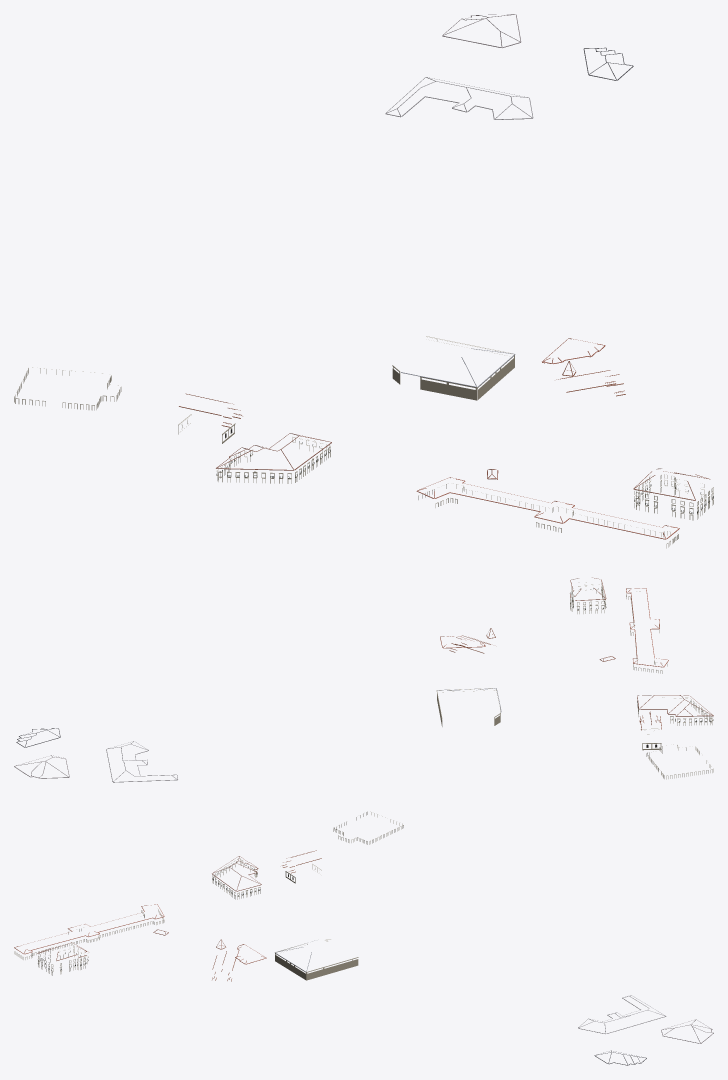
3 views of the same model, one above another, from view 1: azimuth 30°, elevation 25°; view 2: azimuth 150°, elevation 25°; view 3: azimuth 270°, elevation 25° (orthographic). The views are drawn at different scales.
Visible parts, largest first — view 1: detail; view 2: detail; view 3: detail.
Part boxes in pixels (<box>): detail: <box>14,14,713,548</box>; detail: <box>14,577,713,782</box>; detail: <box>14,811,713,1065</box>.
Size of the model in its own units: 427 by 32.01 by 499.
